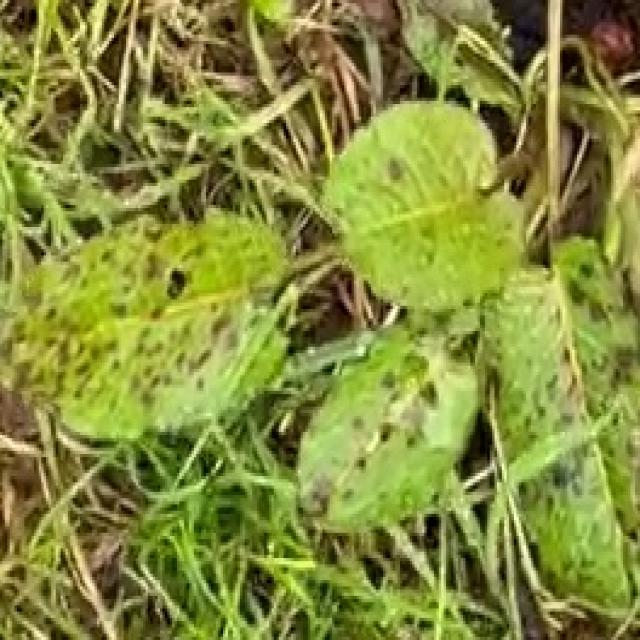organic waste: (28, 88, 640, 556)
